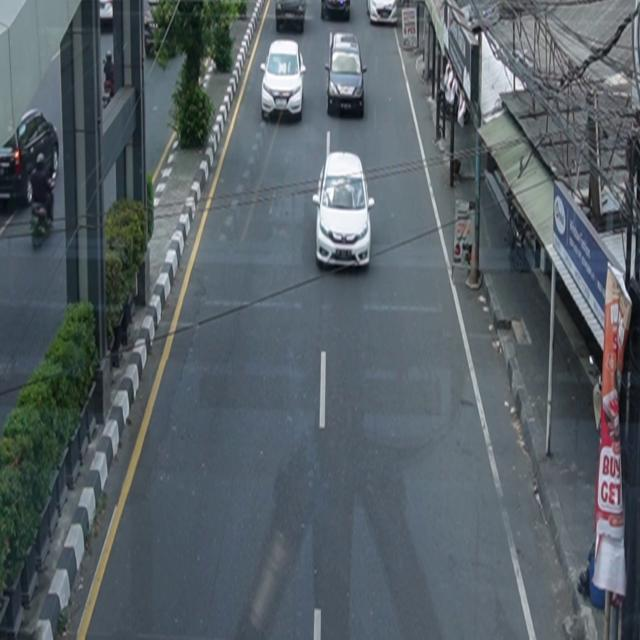car: (313, 149, 376, 271), (1, 108, 60, 207), (261, 40, 307, 123), (326, 33, 368, 119), (276, 1, 308, 34), (367, 1, 399, 26), (322, 1, 351, 22)
